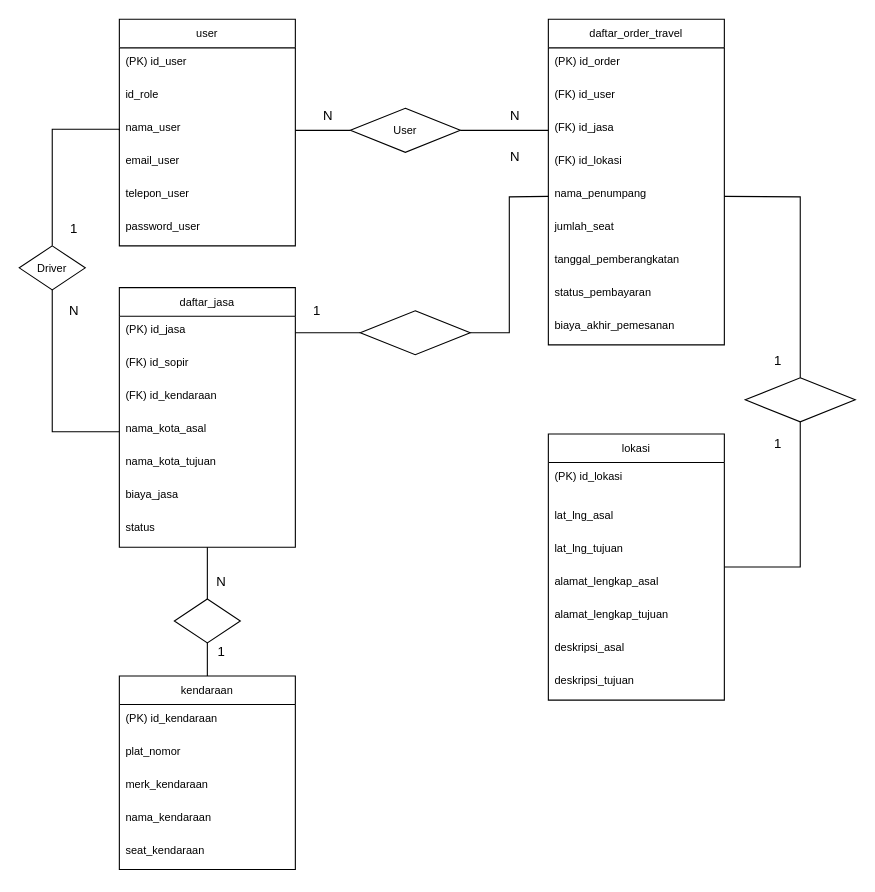
This 875x892 diagram has some shape labels left out. Each missing label, with the centre of its shape:
"Car" goes at [206,620].
"Locate" goes at [799,399].
"Service" goes at [414,332].
